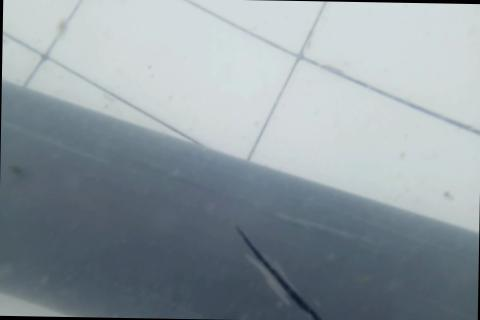keretakan: (234, 224, 326, 320)
